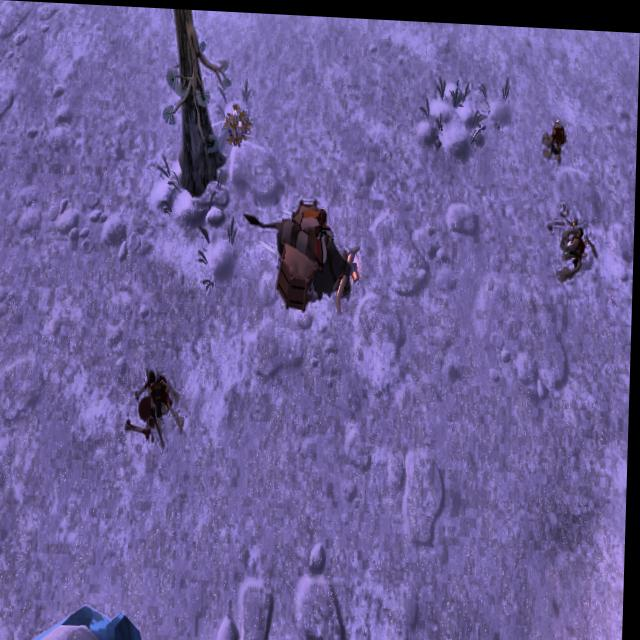enemy_factionUndead: (143, 365, 187, 449), (560, 211, 594, 280), (543, 110, 567, 158)
